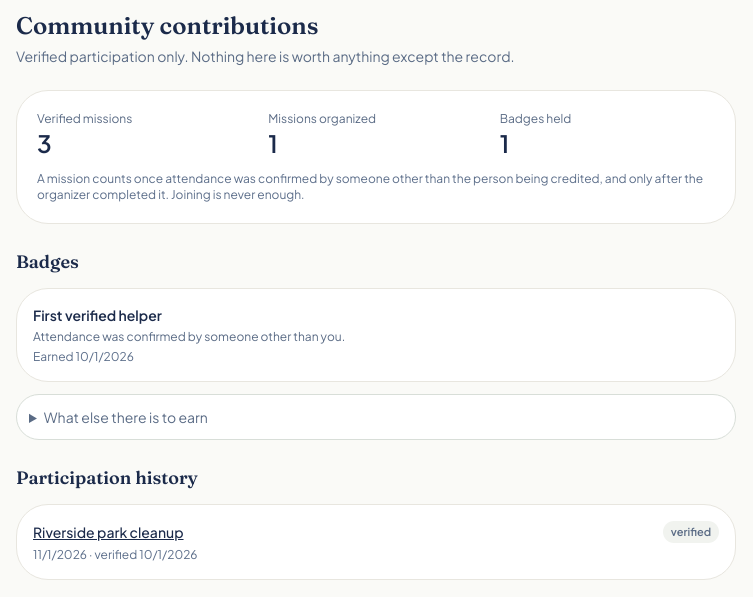
Contributions › shows verified counts and every badge explanation
Expected: the text "Verified missions" is shown, top-left (37, 111), bottom-right (132, 126)
Expected: the text "Attendance was confirmed by someone other than you." is shown, top-left (33, 329), bottom-right (345, 344)
Click the heading "What else there is to earn" at x=126, y=417, box top-left (44, 408), bottom-right (208, 426)
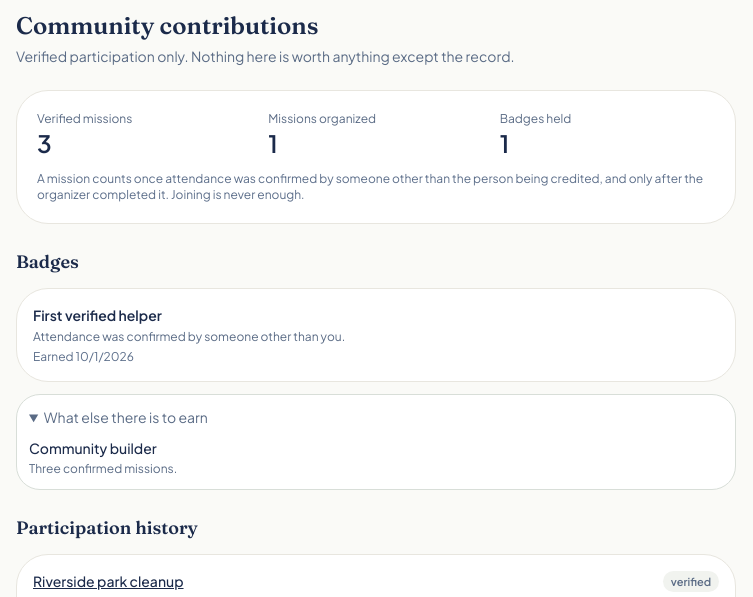
Now the text "Three confirmed missions." is shown, box top-left (29, 461), bottom-right (177, 476)
